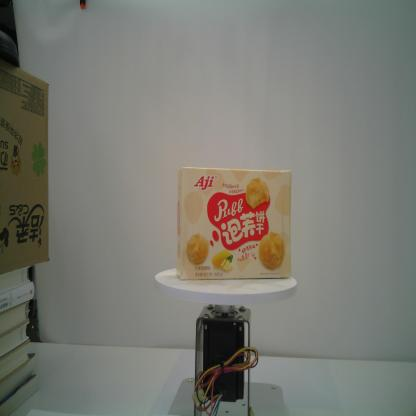Dessert: (175, 167, 293, 282)
